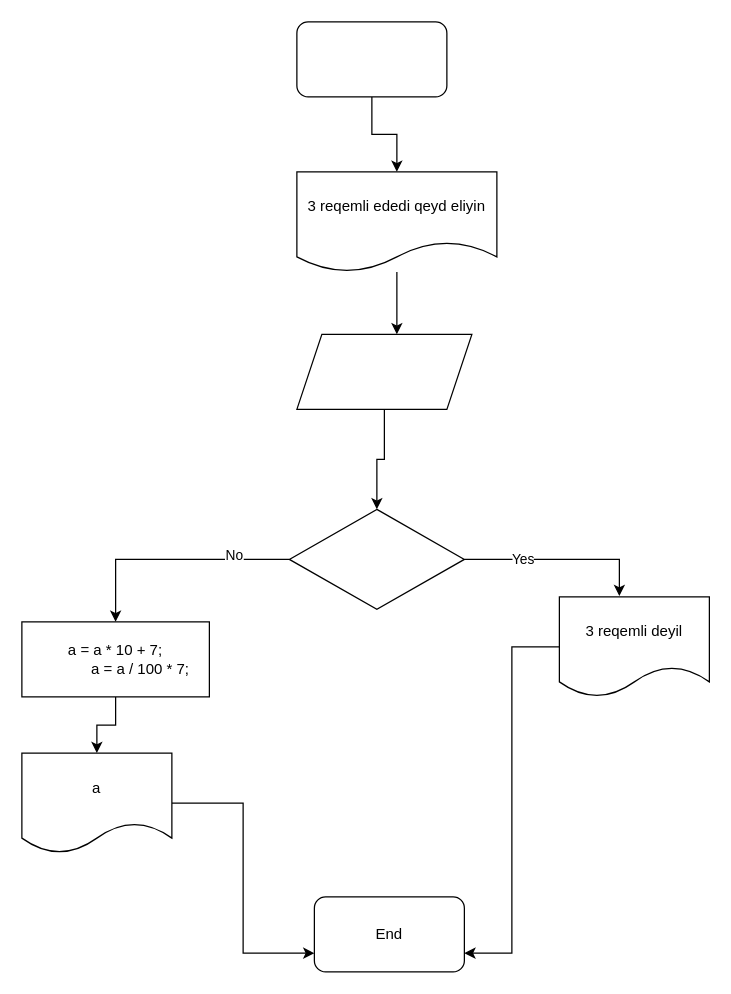
Image size: 731x994. Some labels were removed from this diagram. The centre of each missing label's shape, as x and y in pixels:
"a < 100 || a >= 1000" goes at point 376,558.
"a = 3 reqemli eded" goes at point 384,371.
"Start" goes at point 371,59.
